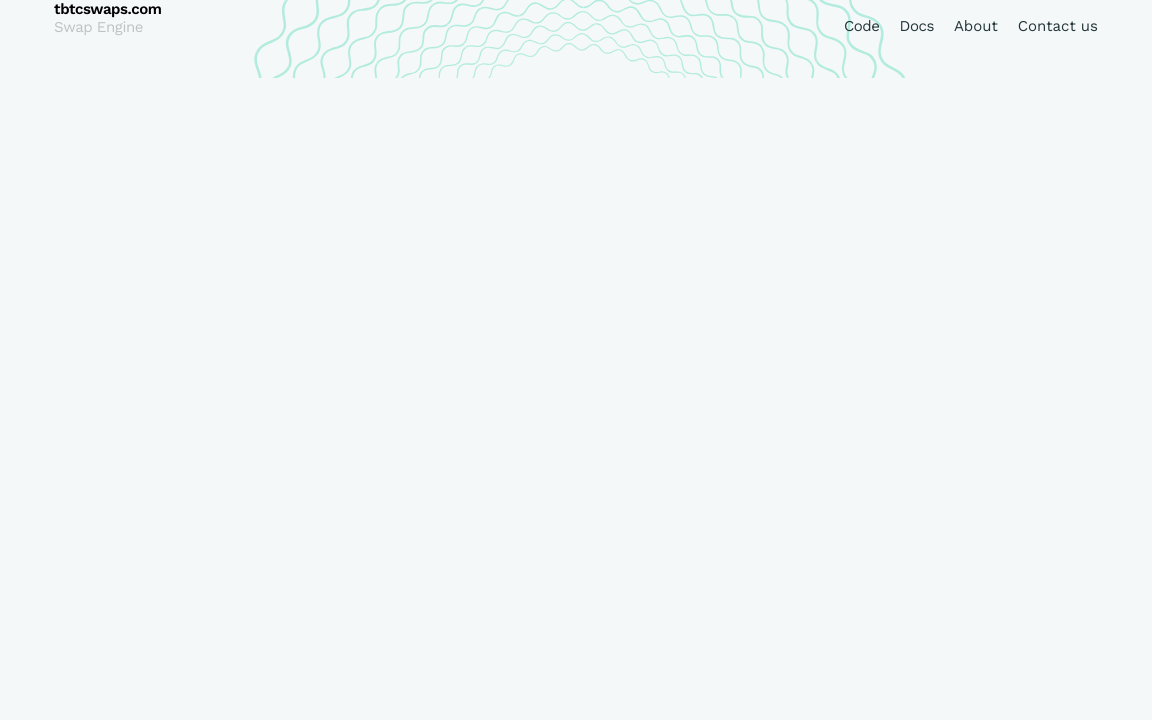
dialog opens when 'Contact us' is clicked
Click the button "Contact us" at point(1058, 26), box [1018, 17, 1098, 36]
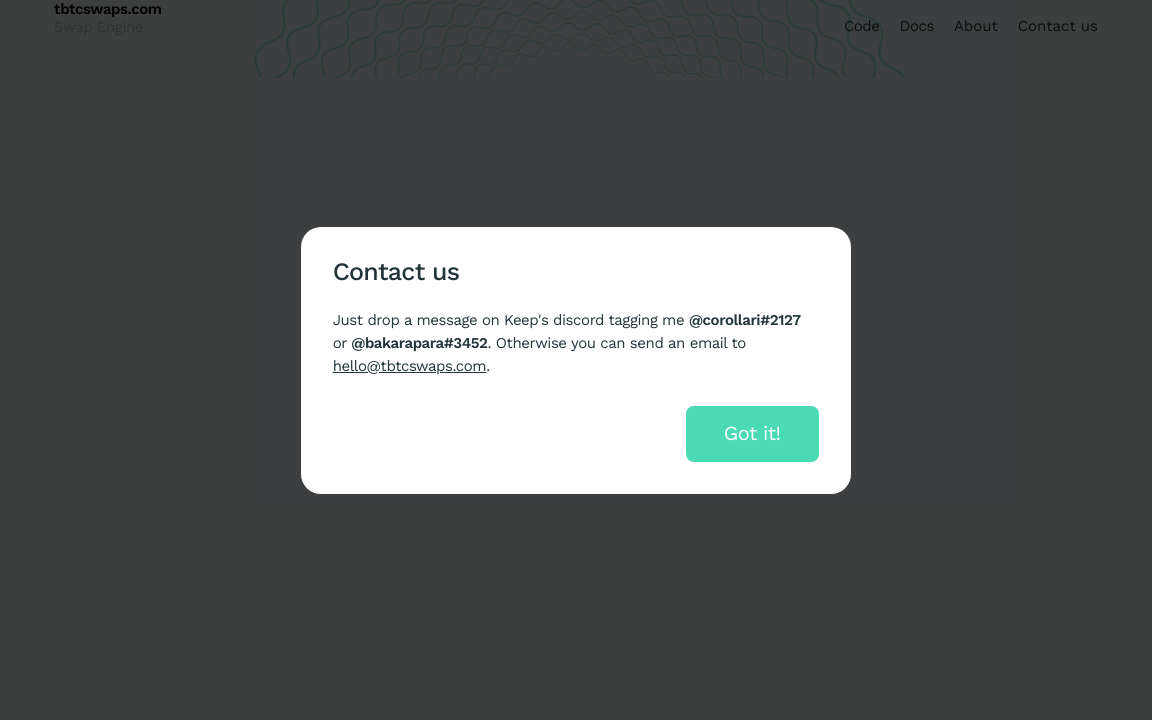
Check: the element that starts with "Contact us" is shown, box [333, 256, 459, 286]
